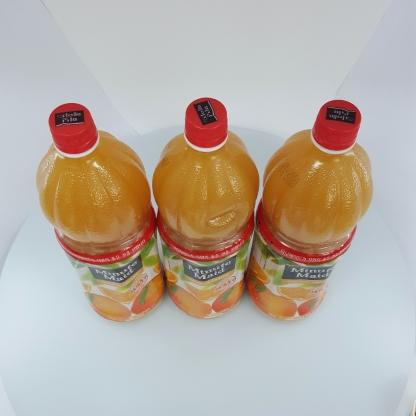------------1-5L: (36, 103, 167, 323), (246, 99, 374, 323), (152, 97, 260, 319)
